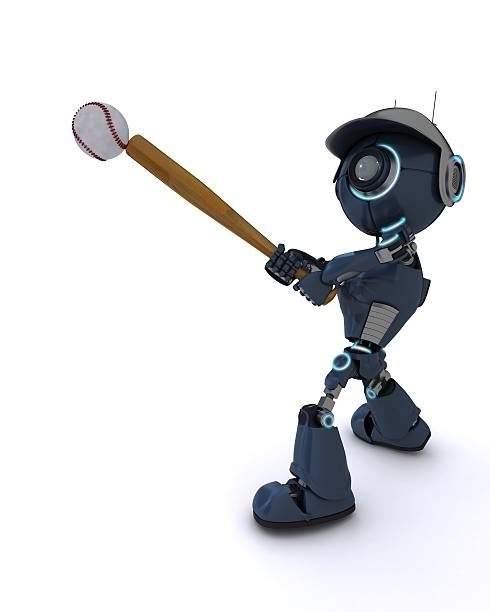bita: (124, 134, 344, 302)
